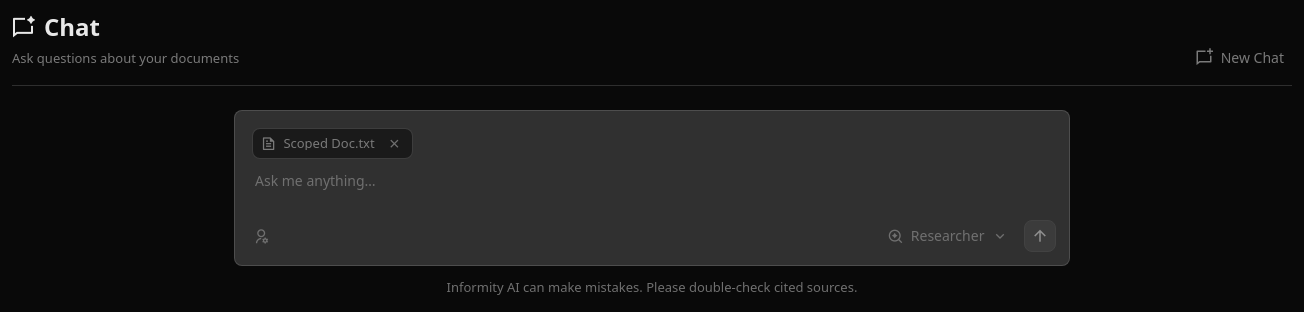
Test: ChatView new chat behavior › locks mode to Researcher when file scope is active
The image size is (1304, 312).
Expected: the button named "Clear file scope" is shown, 384,133 -> 404,153
Expected: the button named "Specialization: General Assistant" is shown, 245,220 -> 279,252
Click the button with aria-label "Select chat mode": {"x": 945, "y": 236} 874,218 -> 1016,254
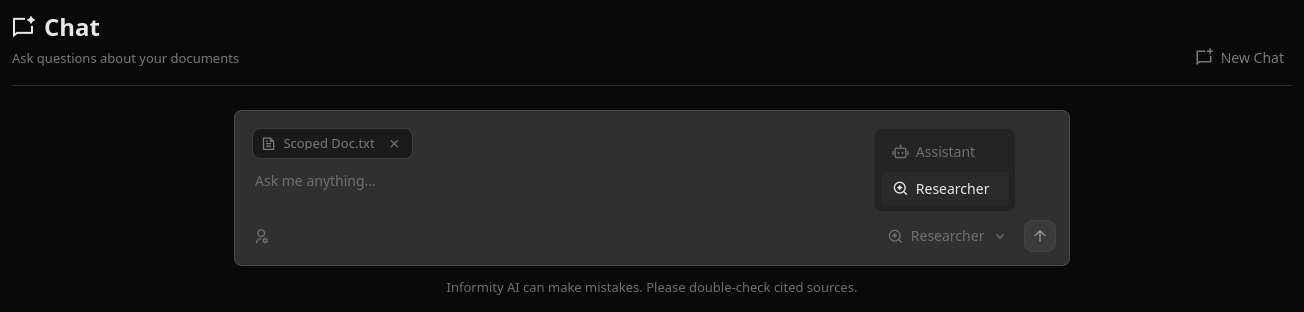
Now the menu item "Assistant" is disabled, box 881,134 -> 1009,168
